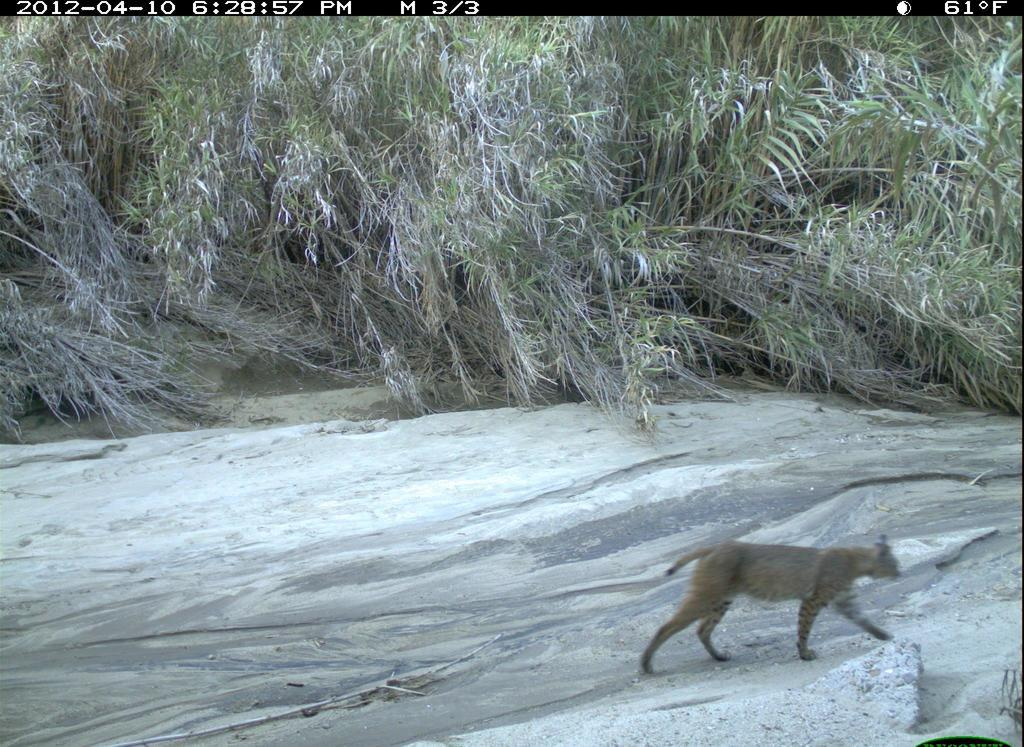bobcat: (616, 527, 921, 689)
